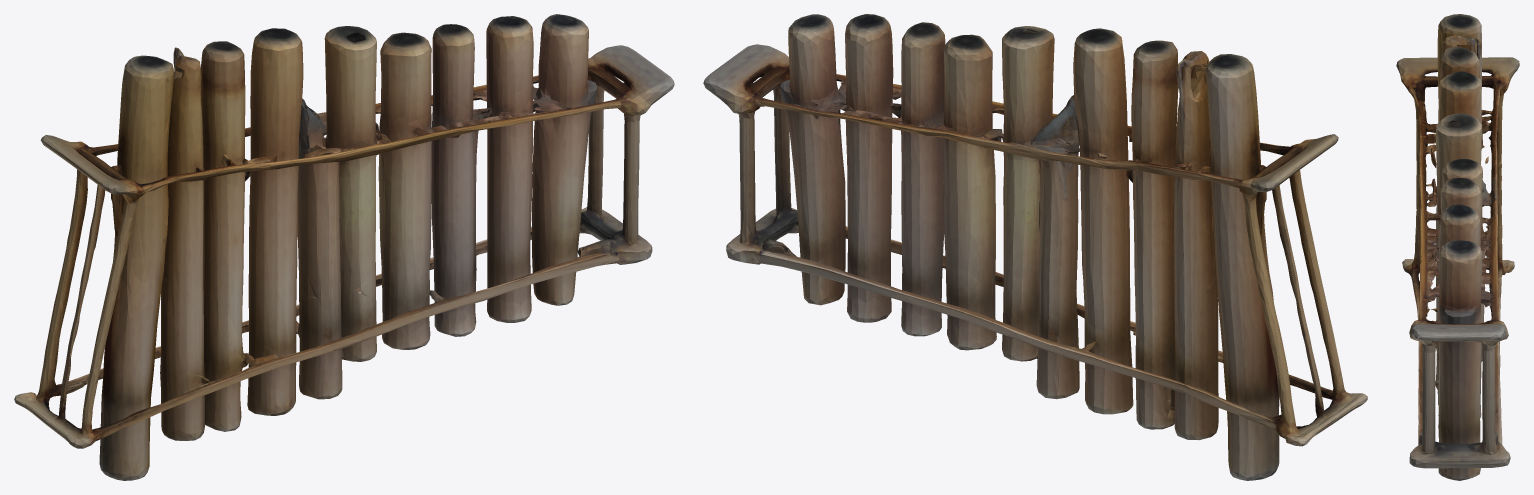
File: bali.glb
3 views of the same model, side by side, from view 1: azimuth 30°, elevation 25°; view 2: azimuth 150°, elevation 25°; view 3: azimuth 270°, elevation 25° (orthographic). The views are drawn at different scales.
Parts seen in each view (by area): view 1: world; view 2: world; view 3: world.
Boxes of the visible parts, x1,y1,x2,y2 form: world: (14,14,674,480); world: (703,14,1367,480); world: (1396,14,1519,480).
Size of the model in its own units: 0.6971 by 0.4422 by 0.1425.
Materials: 1 (1 with a texture image).
